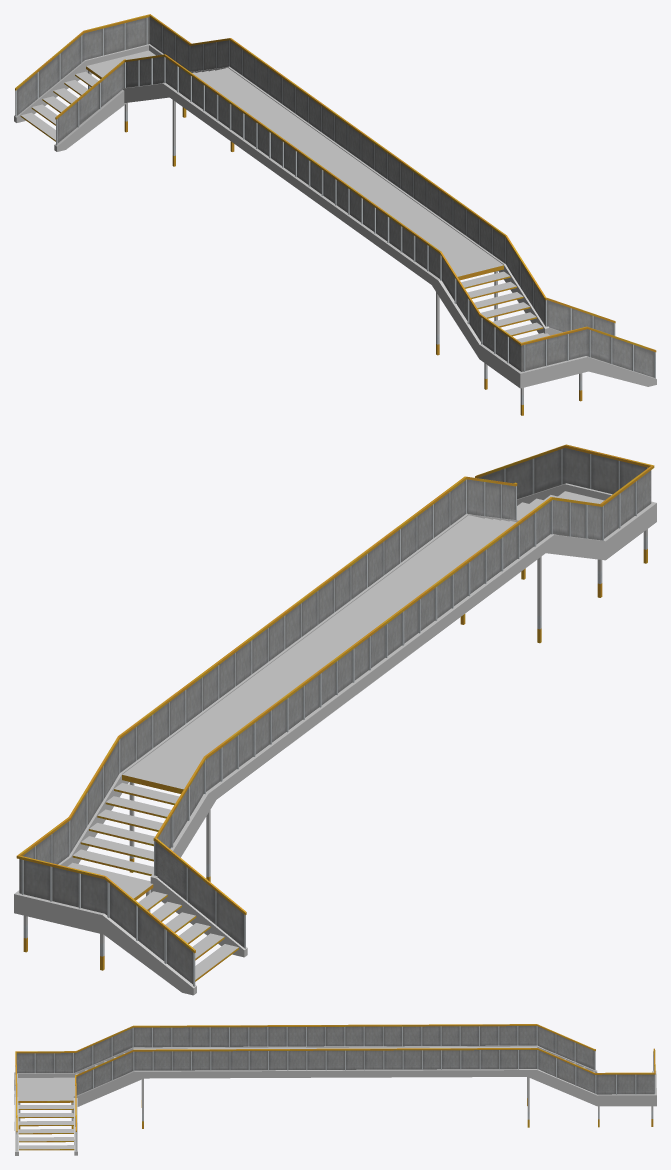
The model's file is FootBridge.fbx.
3 views of the same model, one above another, from view 1: azimuth 30°, elevation 25°; view 2: azimuth 150°, elevation 25°; view 3: azimuth 270°, elevation 25° (orthographic). The views are drawn at different scales.
Visible parts, largest first — view 1: Bridge_Sides, Bridge_Frame, Bridge_Colour_Trim, Bridge_Poles; view 2: Bridge_Sides, Bridge_Frame, Bridge_Colour_Trim, Bridge_Poles; view 3: Bridge_Sides, Bridge_Frame, Bridge_Colour_Trim, Bridge_Poles.
Boxes of the visible parts, bbox=[...] form: Bridge_Sides: bbox=[17, 17, 653, 377]; Bridge_Frame: bbox=[14, 44, 656, 395]; Bridge_Colour_Trim: bbox=[15, 14, 656, 415]; Bridge_Poles: bbox=[15, 17, 655, 404]; Bridge_Sides: bbox=[19, 448, 651, 984]; Bridge_Frame: bbox=[14, 483, 656, 995]; Bridge_Colour_Trim: bbox=[16, 444, 654, 981]; Bridge_Poles: bbox=[21, 449, 647, 986]; Bridge_Sides: bbox=[16, 1026, 654, 1126]; Bridge_Frame: bbox=[14, 1045, 656, 1155]; Bridge_Colour_Trim: bbox=[15, 1024, 655, 1150]; Bridge_Poles: bbox=[15, 1026, 655, 1151].
Bounding box in the file's own units: 971 × 472 × 3423.
